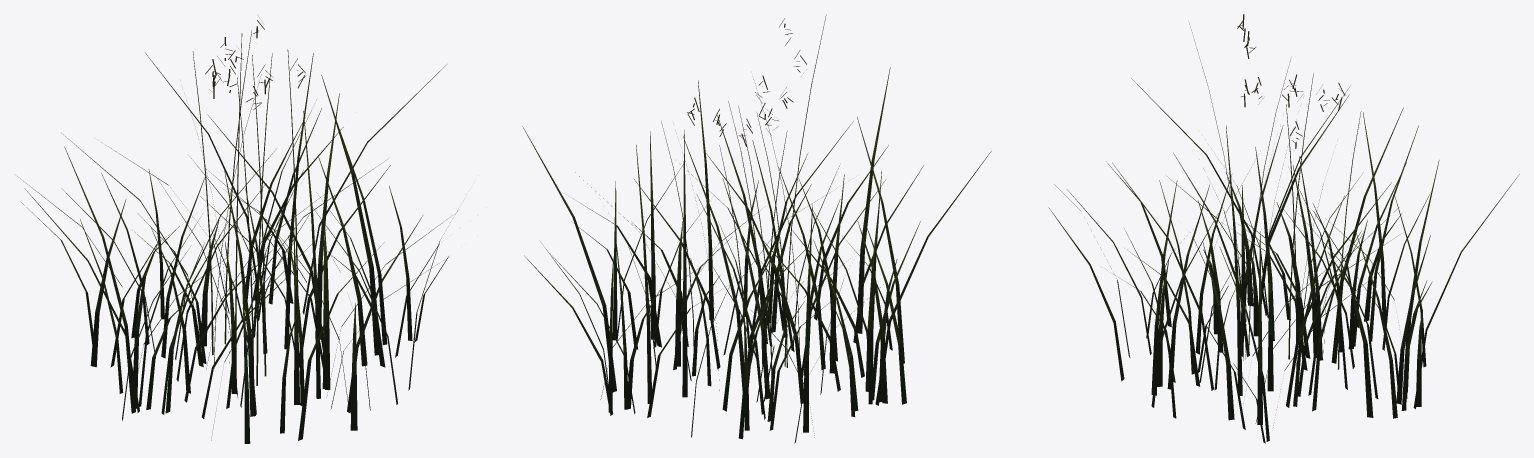
File: SM_Grass_Tall.fbx
3 views of the same model, side by side, from view 1: azimuth 30°, elevation 25°; view 2: azimuth 150°, elevation 25°; view 3: azimuth 270°, elevation 25° (orthographic). The views are drawn at different scales.
Visible parts, largest first — view 1: SM_Grass_Tall; view 2: SM_Grass_Tall; view 3: SM_Grass_Tall.
Part boxes in pixels (x1,y1,x2,y2): SM_Grass_Tall: (17, 16, 457, 443); SM_Grass_Tall: (522, 14, 991, 443); SM_Grass_Tall: (1048, 14, 1519, 443).
Bounding box in the file's own units: 86.22 × 97.05 × 75.4.
